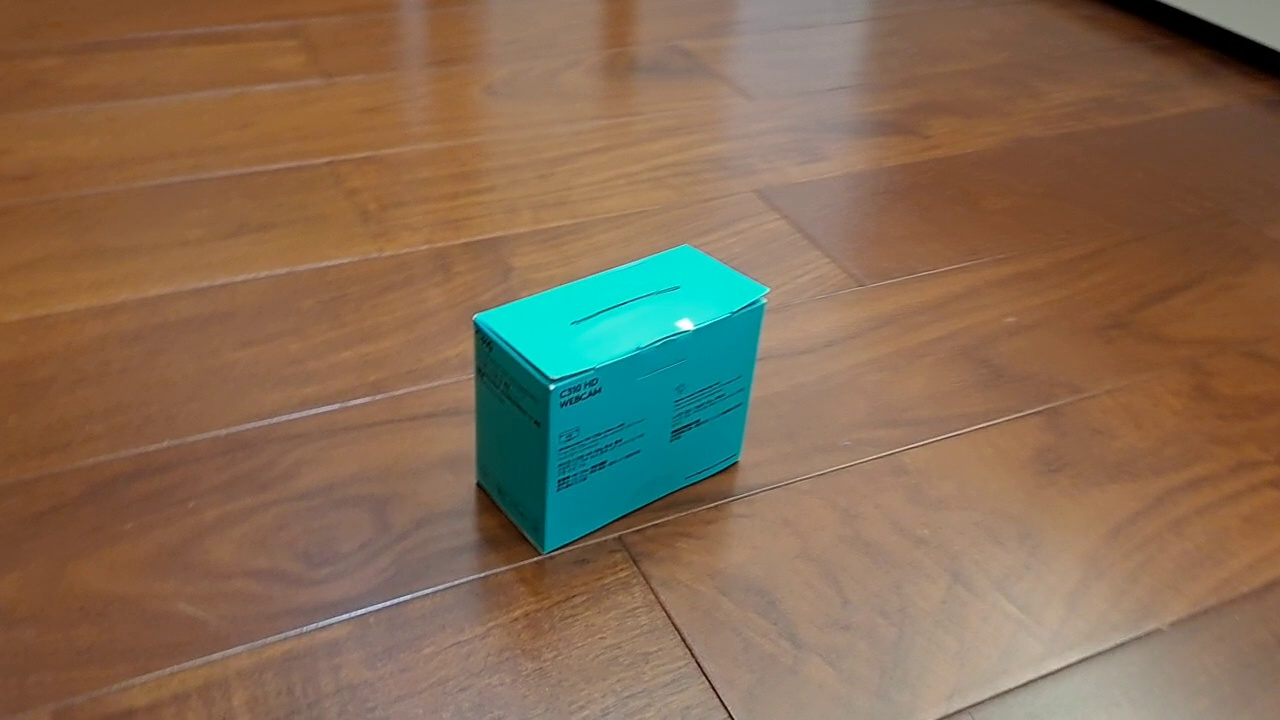webcam: (470, 241, 772, 557)
